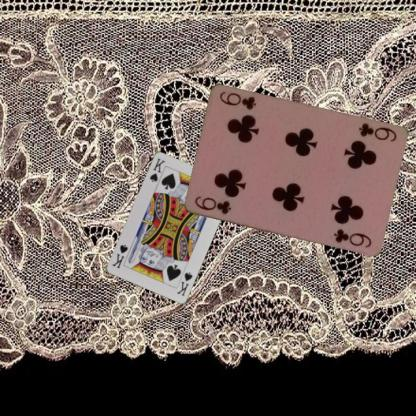6c: (355, 120, 398, 143), (192, 194, 232, 216)
Ks: (174, 269, 193, 297), (147, 156, 166, 183)
